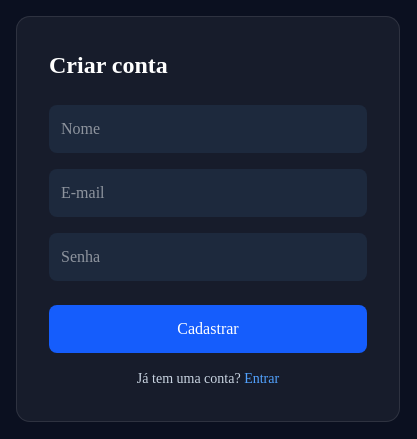
it: register page › após sucesso mostra confirmação persistente e remove a possibilidade de novo envio
Type "Ana Silva" into the field labelled "Nome" at (208, 129), box x1=49 y1=105 x2=367 y2=153
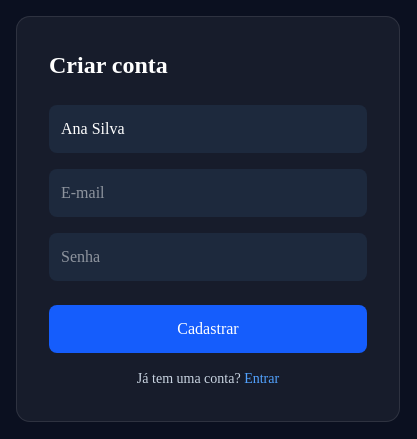
Type "ana@example.com" into the field labelled "E-mail" at (208, 193), box x1=49 y1=169 x2=367 y2=217
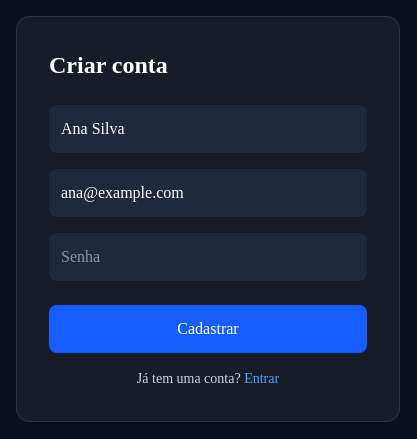
Type "senha-segura-8" into the password field labelled "Senha" at (208, 257), box x1=49 y1=233 x2=367 y2=281
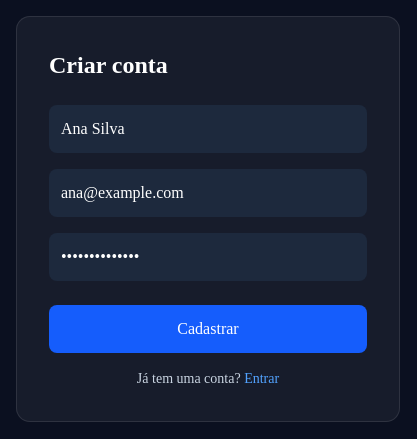
Click the button "Cadastrar" at (208, 329), box x1=49 y1=305 x2=367 y2=353
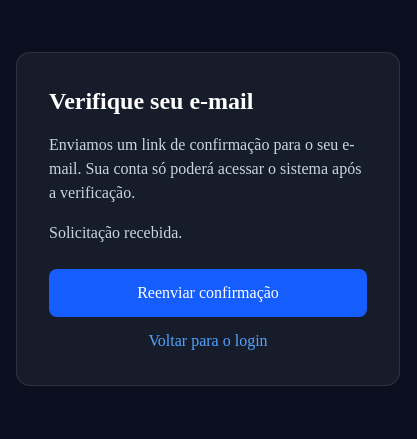
Result: the heading "Verifique seu e-mail" is shown at x1=49 y1=88 x2=253 y2=114
Result: the text "sua conta só poderá acessar o sistema após a verificação" is shown at x1=49 y1=136 x2=361 y2=201
Result: the text "Solicitação recebida." is shown at x1=49 y1=224 x2=182 y2=241
